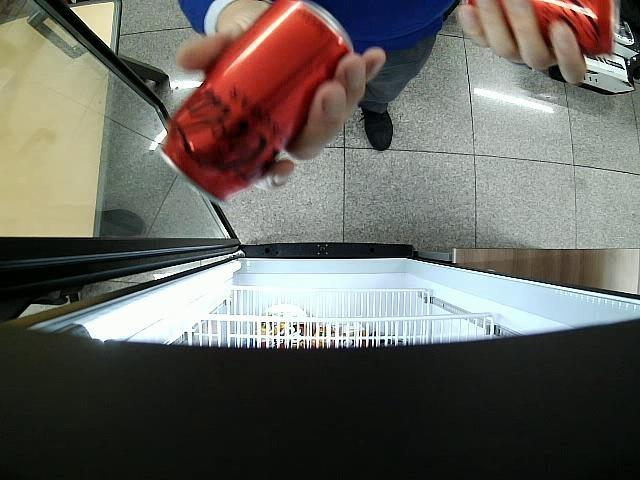11_cocaColaZero: (150, 0, 357, 204), (465, 0, 619, 56)
